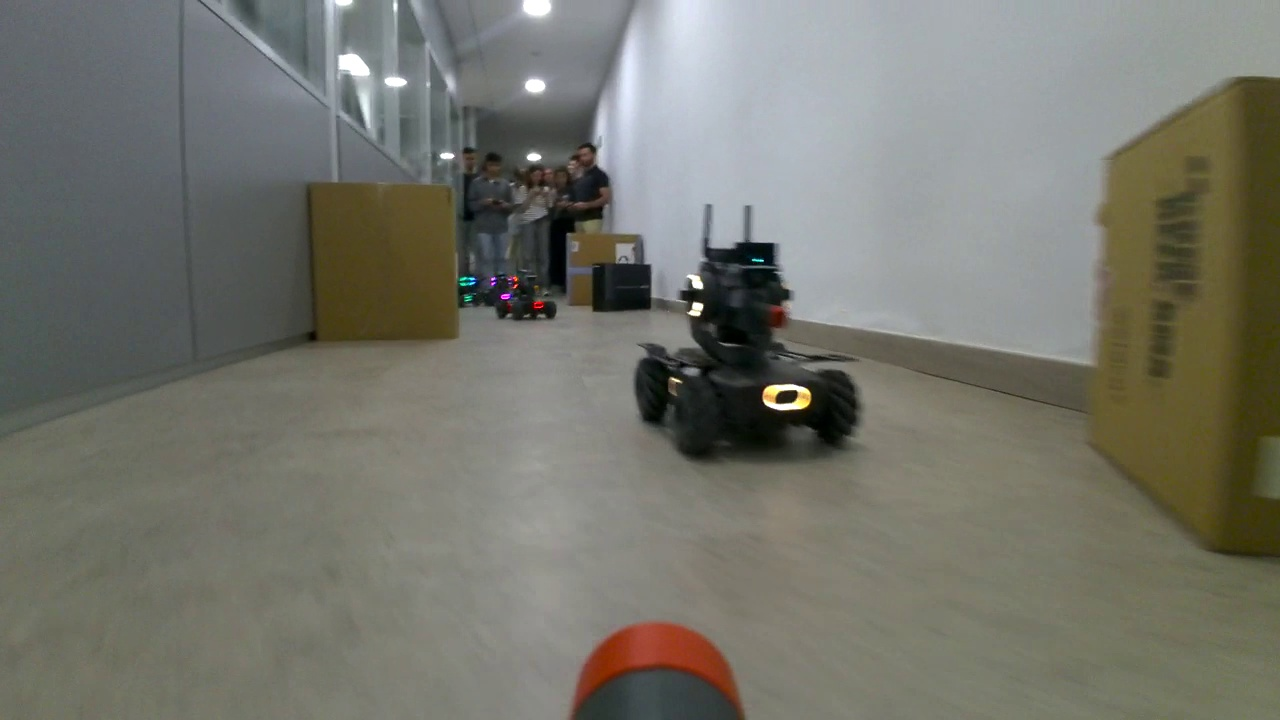robot: (631, 237, 860, 463), (496, 268, 557, 323)
